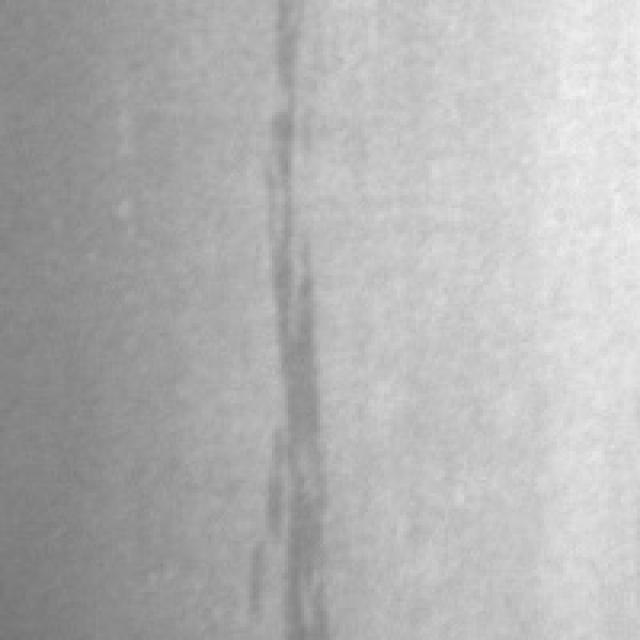inclusion: (243, 0, 355, 630)
